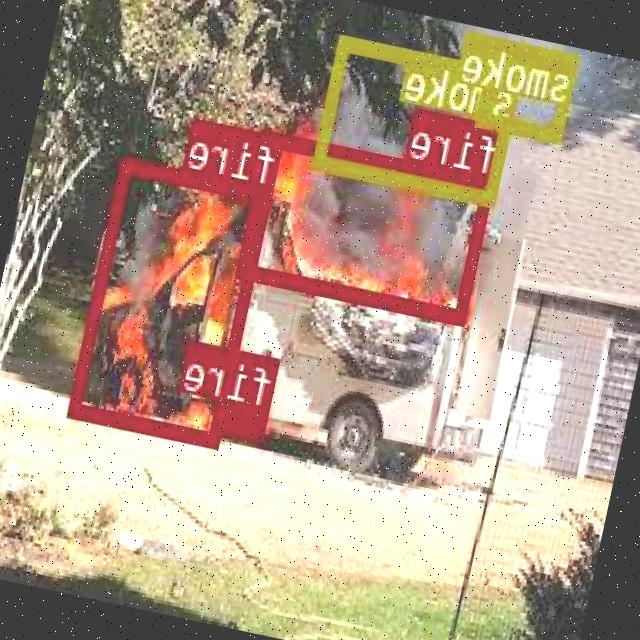fire: (69, 156, 276, 446), (237, 128, 497, 324), (216, 399, 272, 440)
smoke: (314, 32, 525, 206), (478, 36, 580, 140)
